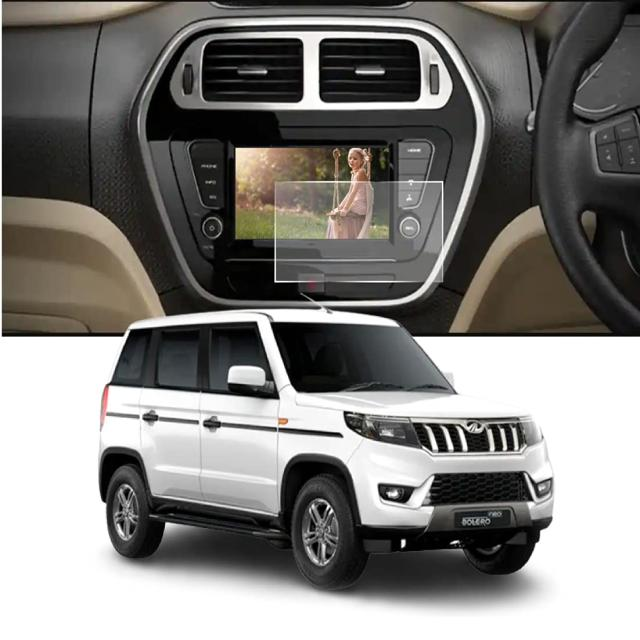light_vehicle: (88, 310, 560, 589)
